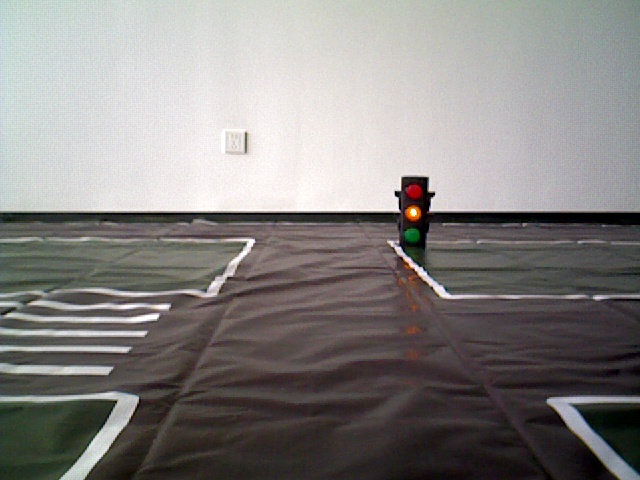yellow: (398, 173, 430, 244)
